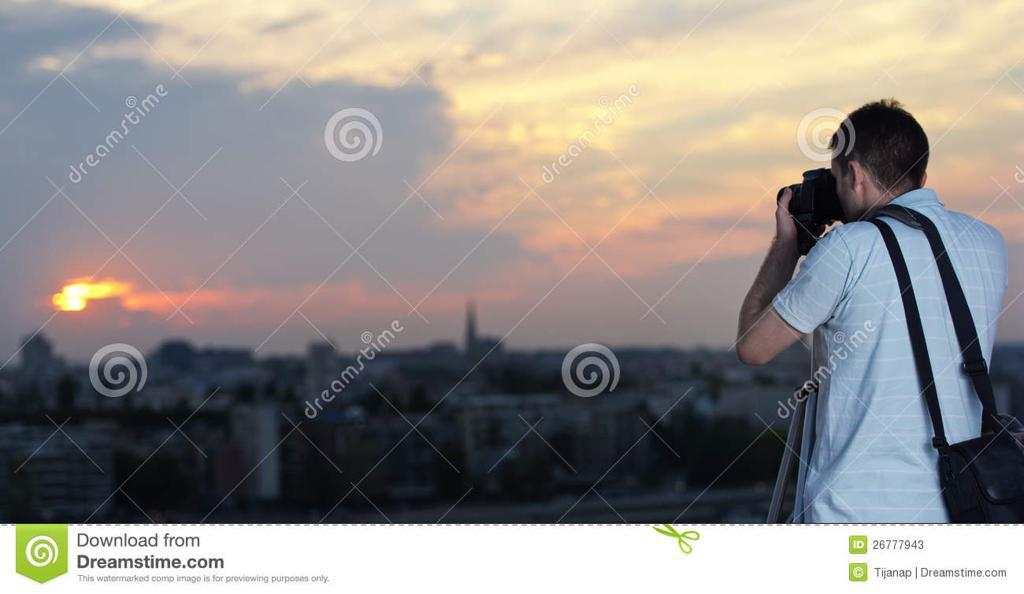face: (821, 129, 895, 225)
